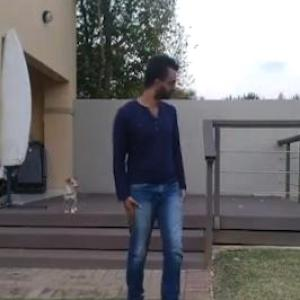follow: (111, 38, 213, 296)
